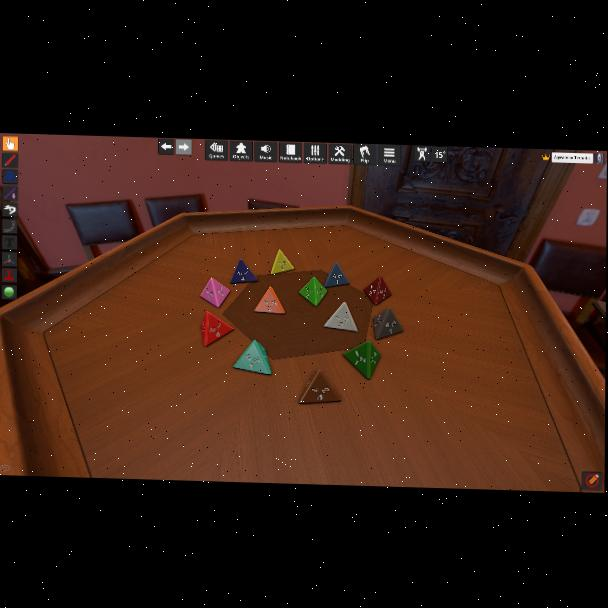d4: (344, 339, 381, 380), (299, 370, 342, 405), (233, 340, 272, 375), (202, 310, 233, 347), (323, 302, 356, 333), (374, 306, 403, 341), (200, 278, 229, 309), (363, 275, 391, 307), (253, 286, 284, 314), (299, 277, 325, 308), (230, 259, 258, 285), (324, 262, 350, 288), (271, 249, 294, 276)
